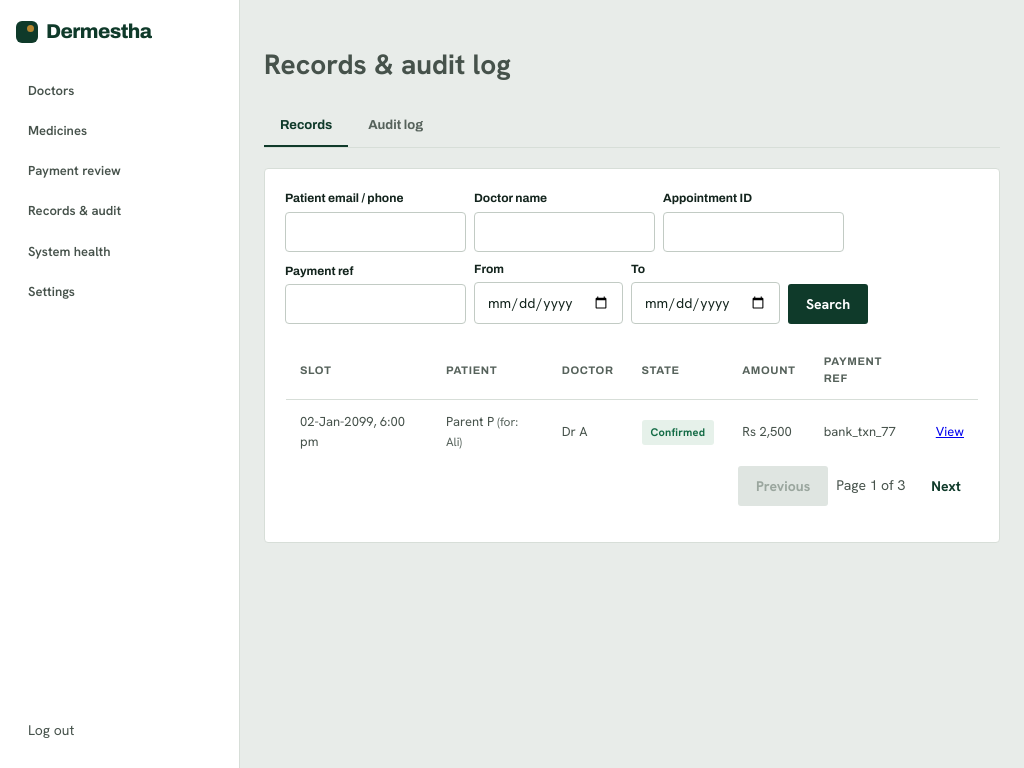
Scenario: AdminRecords (A-04) › audit tab lists audit entries from /admin/audit
Expected: the text "Parent P" is shown, [446,413,494,430]
Click the link "Audit log". click: point(396, 125)
box: [368,118,423,132]
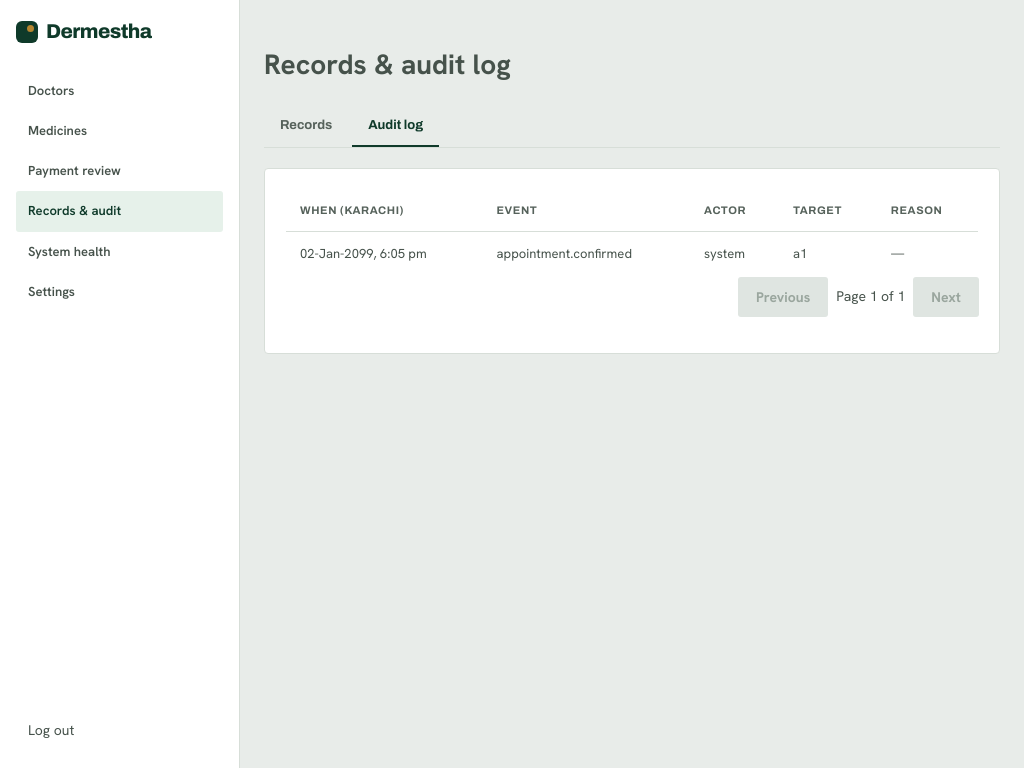
Result: the text "appointment.confirmed" is shown at [482,232,690,277]
